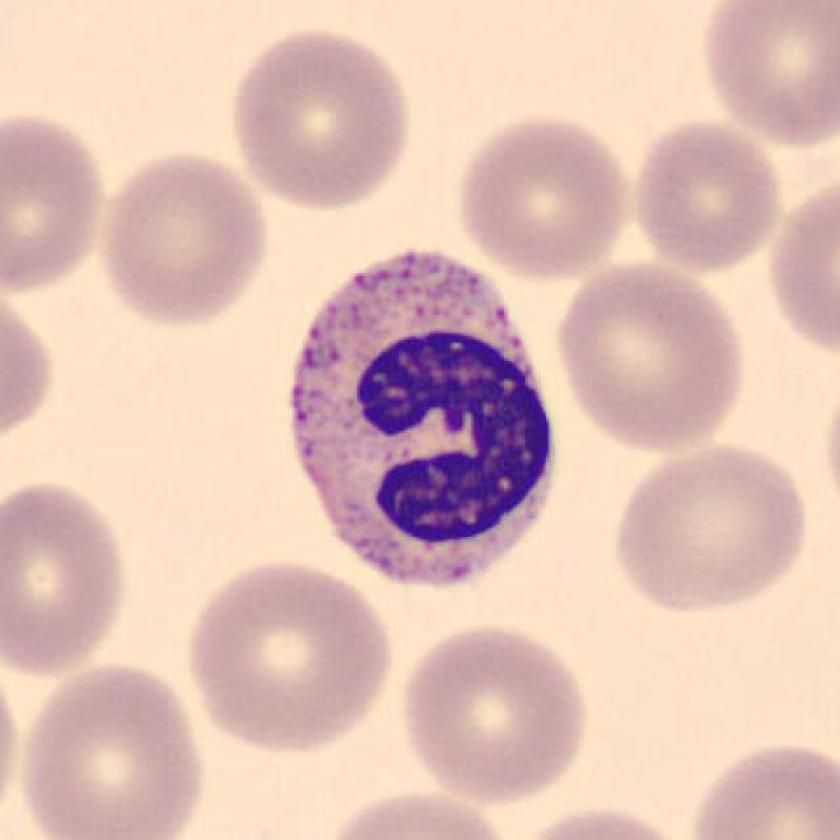neutrophil: (287, 248, 559, 585)
